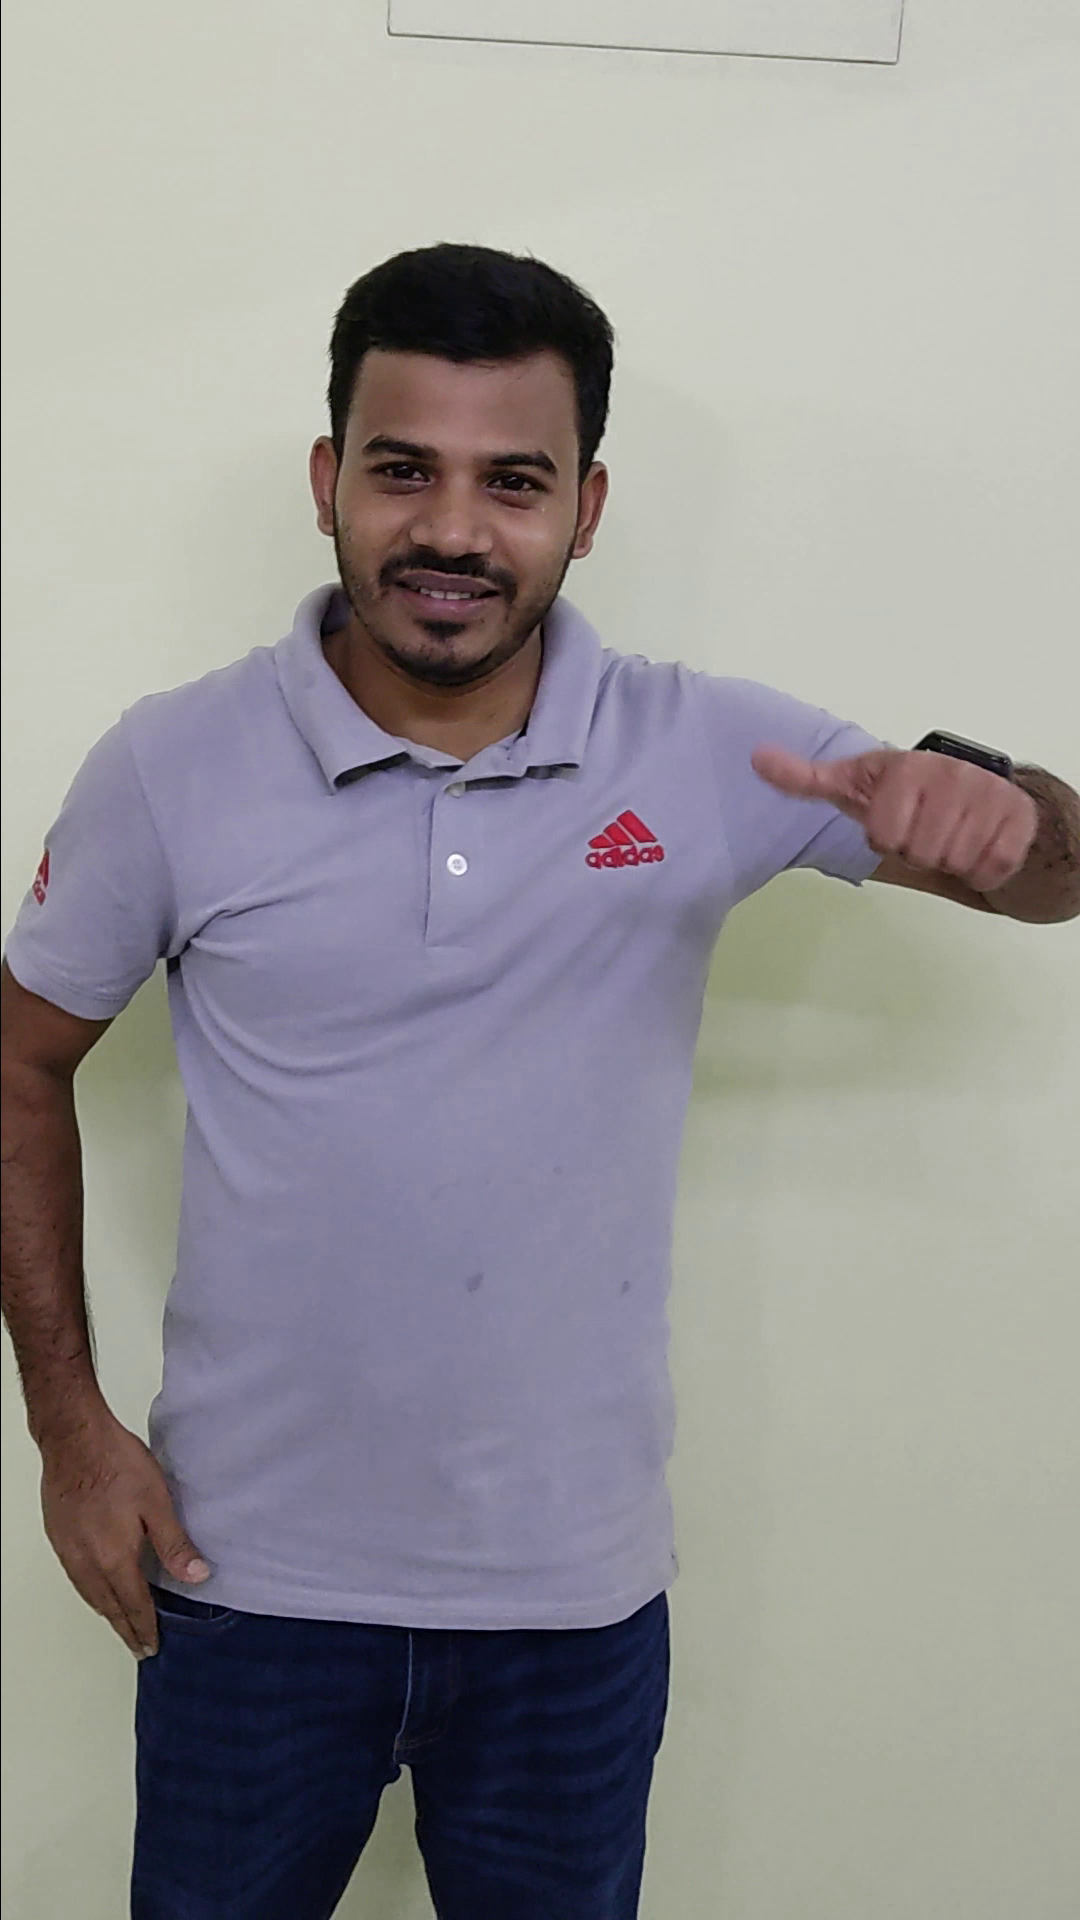Like: (742, 682, 1025, 971)
None: (29, 1390, 243, 1680)
